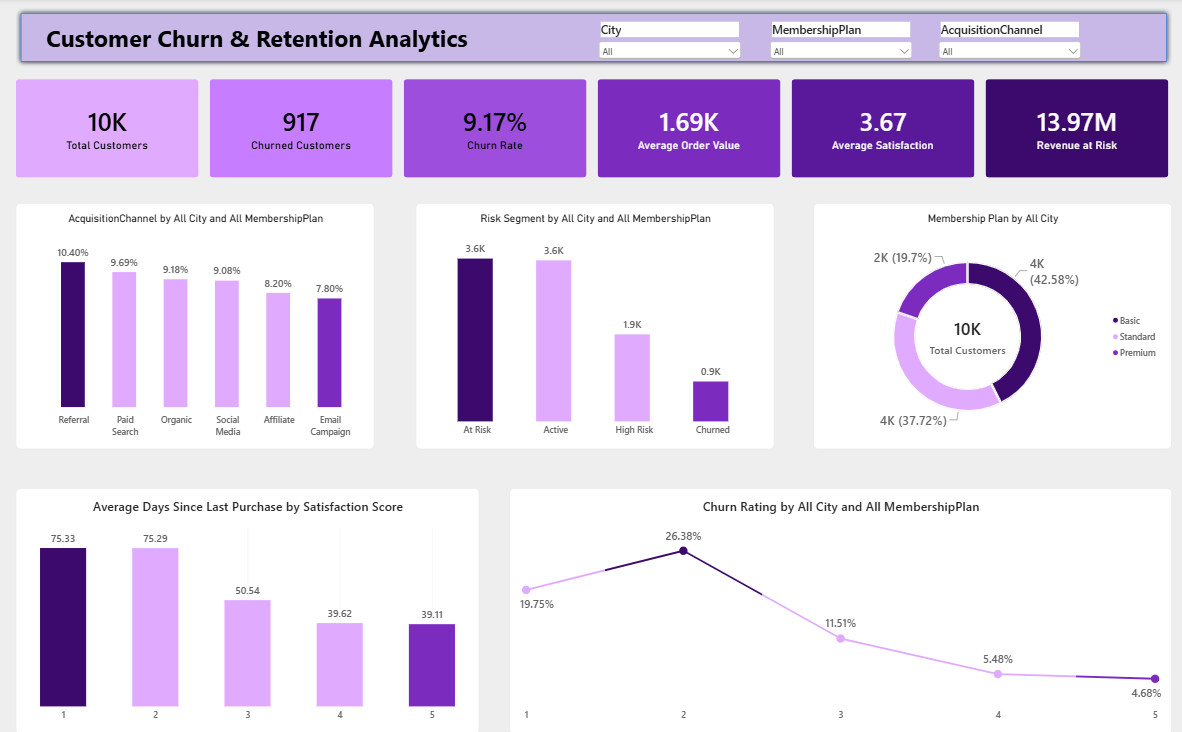

This screenshot's page, from the dashboard's own definition file:
{"tool":"powerbi","page":{"name":"Page 1","canvas":[1920,1200],"ordinal":0},"visuals":[{"type":"cardVisual","fields":{"Data":["Table.Total Customers","Table.Churned Customers","Table.Churn Rate","Table.Average Order Value","Table.Average Satisfaction","Table.Revenue at Risk"]},"box":[30.2,130.7,1859.9,158.8],"z":0},{"type":"clusteredColumnChart","fields":{"Category":["Customers_10000.AcquisitionChannel"],"Y":["Table.Churn Rate"]},"box":[30.2,329.8,577.1,396.1],"z":1000},{"type":"clusteredColumnChart","fields":{"Category":["Customers_10000.RiskSegment"],"Y":["Table.Total Customers"]},"box":[673.6,329.8,577.1,396.1],"z":2000},{"type":"donutChart","fields":{"Category":["Customers_10000.MembershipPlan"],"Y":["Table.Total Customers"]},"box":[1313,329.8,577,396],"z":3000},{"type":"clusteredColumnChart","title":"Average Days Since Last Purchase by Satisfaction Score","fields":{"Category":["Customers_10000.SatisfactionScore_1to5"],"Y":["Avg(Customers_10000.DaysSinceLastPurchase)"]},"box":[30.2,788.2,746,396.1],"z":4000},{"type":"lineChart","fields":{"Category":["Customers_10000.SatisfactionScore_1to5"],"Y":["Table.Churn Rate"]},"box":[824.4,788.2,1065.7,396.1],"z":5000},{"type":"shape","box":[30.2,16.1,1859.9,94.5],"z":6000},{"type":"textbox","box":[60.3,38.2,715.8,52.3],"z":7000},{"type":"slicer","fields":{"Values":["Customers_10000.City"]},"box":[962.5,38.8,238.8,71.2],"z":8000},{"type":"slicer","fields":{"Values":["Customers_10000.MembershipPlan"]},"box":[1238.6,38.2,238.8,71.2],"z":8001},{"type":"slicer","fields":{"Values":["Customers_10000.AcquisitionChannel"]},"box":[1510.1,38.2,238.8,71.2],"z":8002}]}

Visuals, with their boxes in screenshot pixels (x1, y1, x2, y2), scaled from the page's 1920x1200 canvas onto the 1182x732 screenshot:
cardVisual - Table.Total Customers x Table.Churned Customers: {"x1": 19, "y1": 80, "x2": 1164, "y2": 177}
clusteredColumnChart - Customers_10000.AcquisitionChannel x Table.Churn Rate: {"x1": 19, "y1": 201, "x2": 374, "y2": 443}
clusteredColumnChart - Customers_10000.RiskSegment x Table.Total Customers: {"x1": 415, "y1": 201, "x2": 770, "y2": 443}
donutChart - Customers_10000.MembershipPlan x Table.Total Customers: {"x1": 808, "y1": 201, "x2": 1164, "y2": 443}
"Average Days Since Last Purchase by Satisfaction Score" clusteredColumnChart: {"x1": 19, "y1": 481, "x2": 478, "y2": 722}
lineChart - Customers_10000.SatisfactionScore_1to5 x Table.Churn Rate: {"x1": 508, "y1": 481, "x2": 1164, "y2": 722}
shape: {"x1": 19, "y1": 10, "x2": 1164, "y2": 67}
textbox: {"x1": 37, "y1": 23, "x2": 478, "y2": 55}
slicer - Customers_10000.City: {"x1": 593, "y1": 24, "x2": 740, "y2": 67}
slicer - Customers_10000.MembershipPlan: {"x1": 763, "y1": 23, "x2": 910, "y2": 67}
slicer - Customers_10000.AcquisitionChannel: {"x1": 930, "y1": 23, "x2": 1077, "y2": 67}
